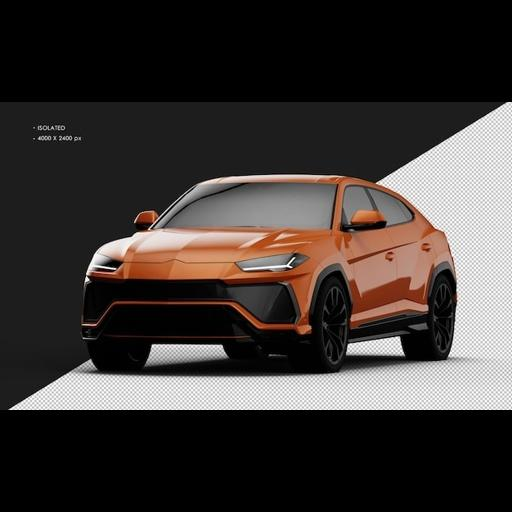suv: (83, 176, 454, 371)
